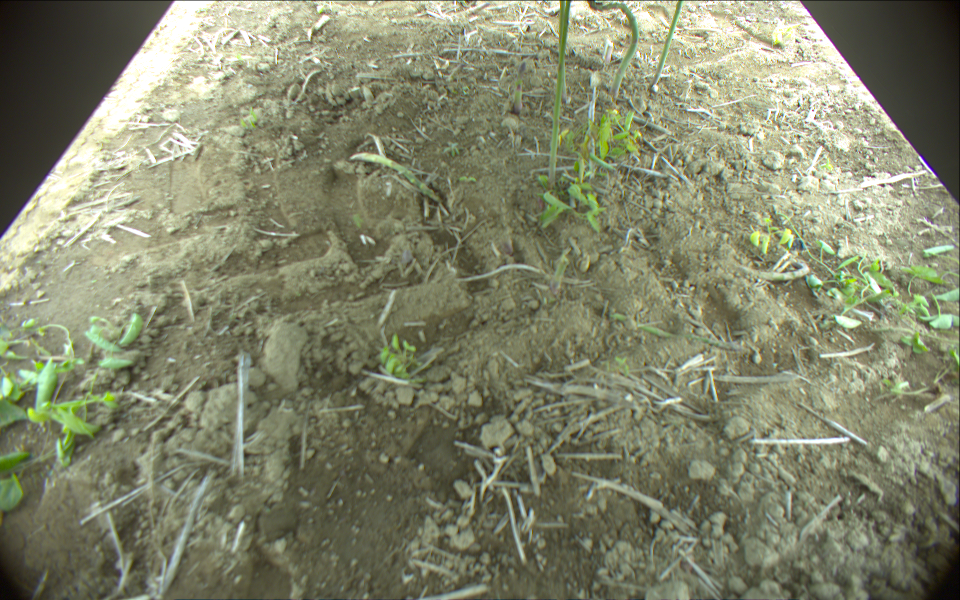aspa: (589, 1, 639, 98), (348, 154, 442, 204), (546, 1, 570, 185), (650, 1, 685, 90), (559, 1, 571, 100), (513, 58, 532, 114)
